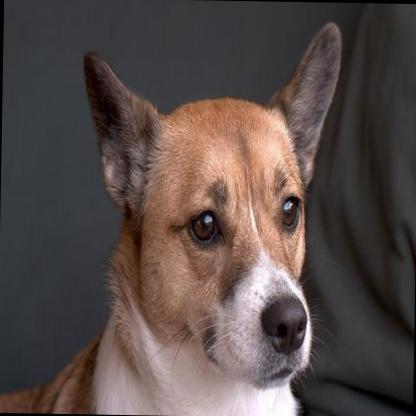kelpie: (0, 14, 345, 416)
